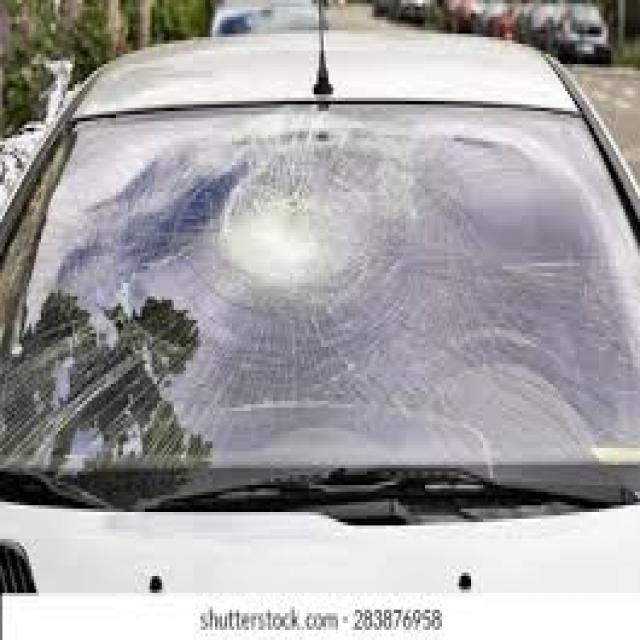damaged-windscreen: (3, 100, 640, 524)
